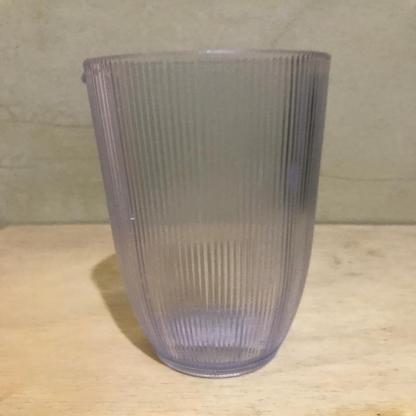glass: (82, 55, 328, 380)
